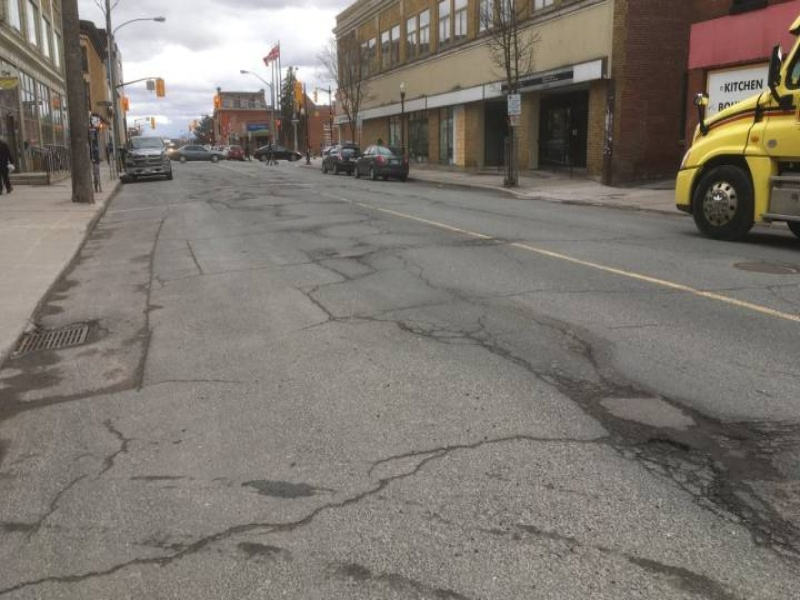pothole: (596, 387, 773, 516)
